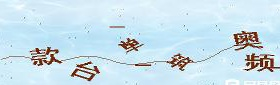chinese: (243, 49, 279, 78), (233, 28, 265, 53), (29, 46, 63, 69), (70, 61, 103, 83), (171, 55, 194, 75), (119, 34, 142, 52)
